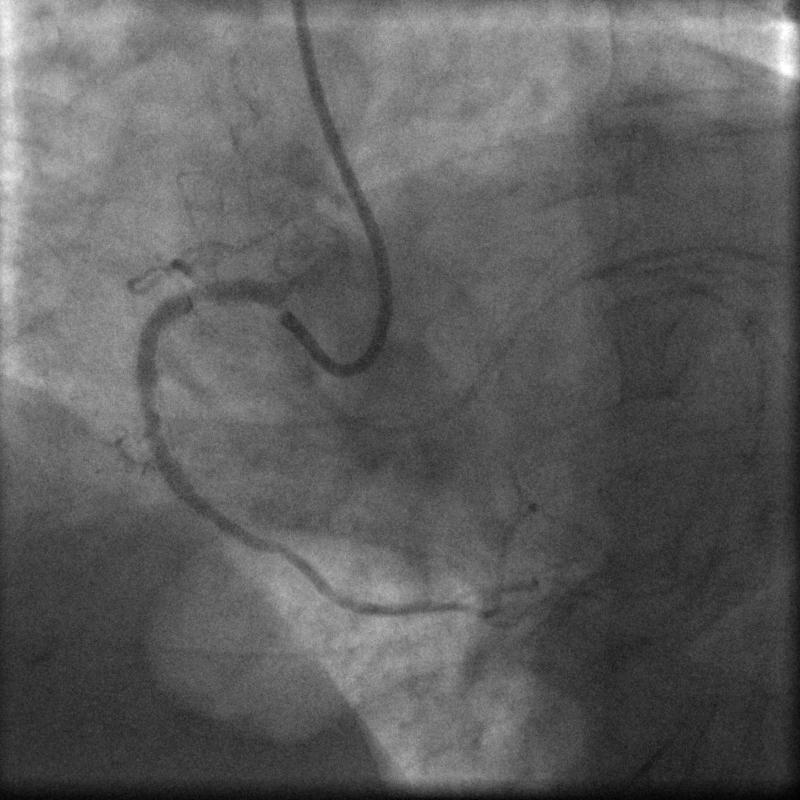Stenosis: (132, 380, 167, 447)
